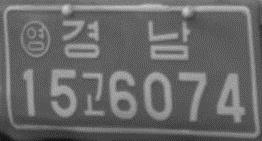0: (142, 69, 173, 121)
1: (20, 66, 40, 118)
4: (213, 70, 248, 125)
5: (49, 67, 79, 117)
6: (109, 69, 138, 121)
7: (175, 69, 208, 123)
경남_D: (60, 18, 192, 61)
고: (79, 70, 107, 117)
영: (19, 19, 52, 58)
